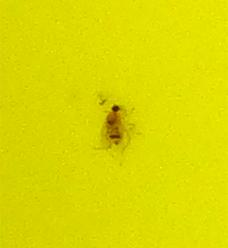Brachycera: (100, 100, 128, 148)
